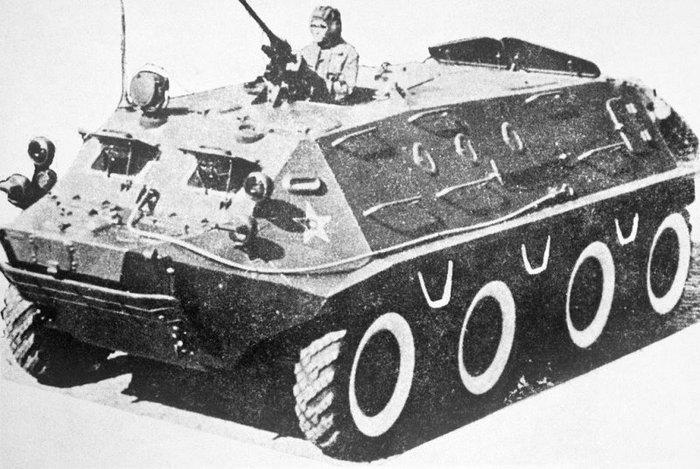MIL_IFV: (2, 4, 700, 463)
